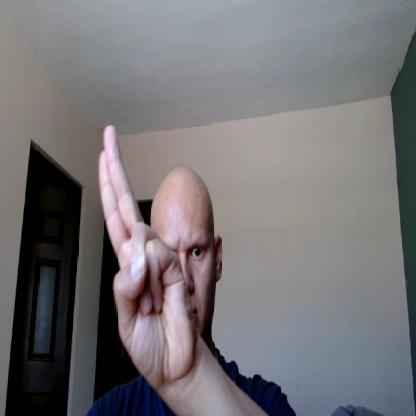U: (99, 123, 191, 379)
